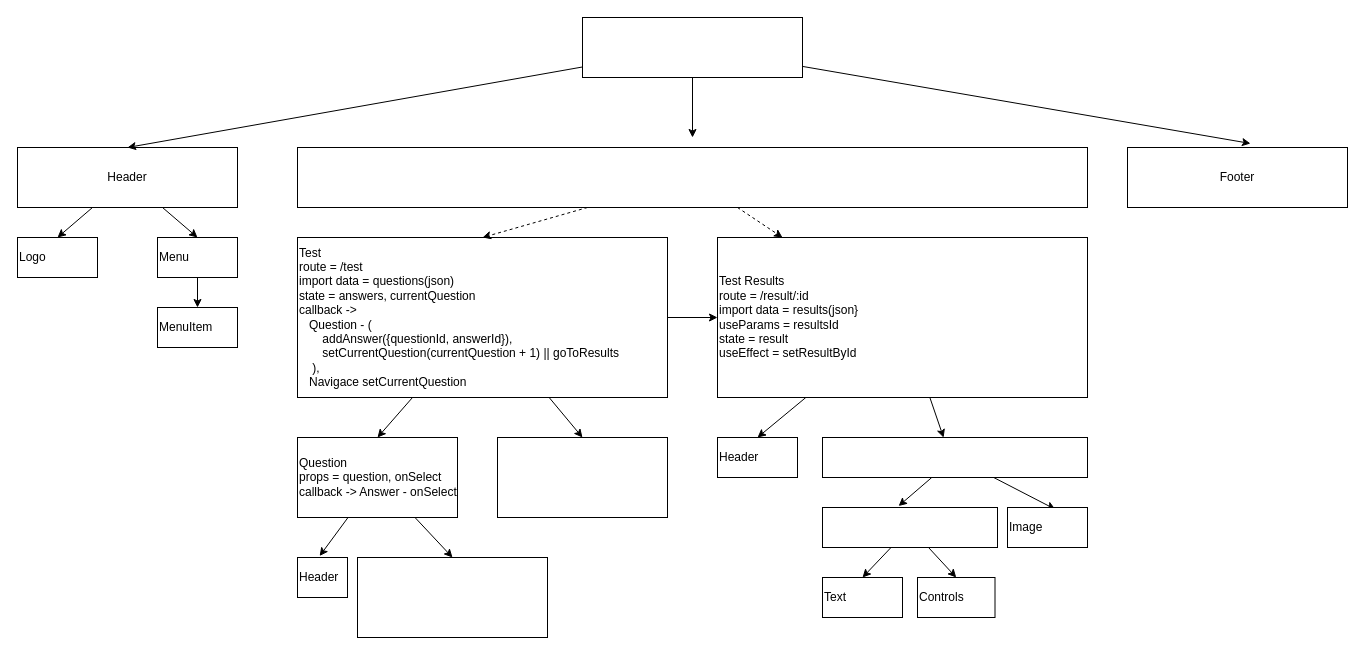
Some shapes in this 1365 by 655 pixel diagram are drawn without their labels. The shapes that lost their labels are listed below. From the top down, each one's centre as x and y in pixels, then its label:
point (692, 47): App
point (692, 177): Outlet
point (582, 477): Navigace props = answers, onSelect event -> onSelect
point (955, 457): Main
point (910, 527): Content
point (452, 597): Answer props = answer, onAnswerSelect event -> onAnswerSelect
